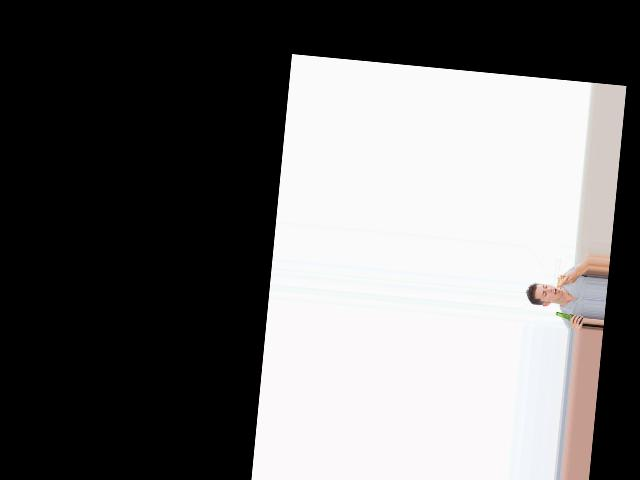beer: (555, 312, 584, 326)
